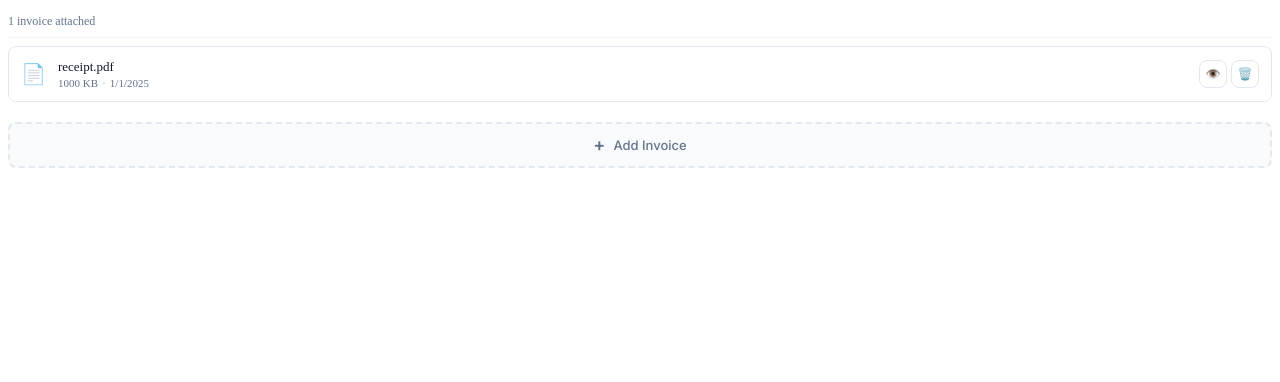
Test: InvoiceUpload Component › Add Invoice Button Appearance › shows upload form when Add Invoice button is clicked
Click the button with aria-label "add another invoice": (640, 145) left=8, top=122, right=1272, bottom=168
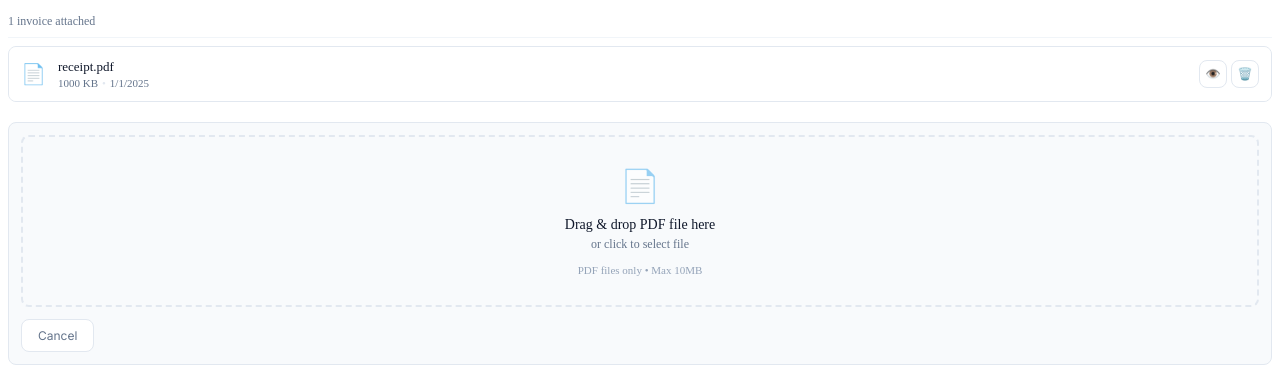
Now the button with aria-label "upload invoice file" is shown, box left=21, top=135, right=1259, bottom=307
